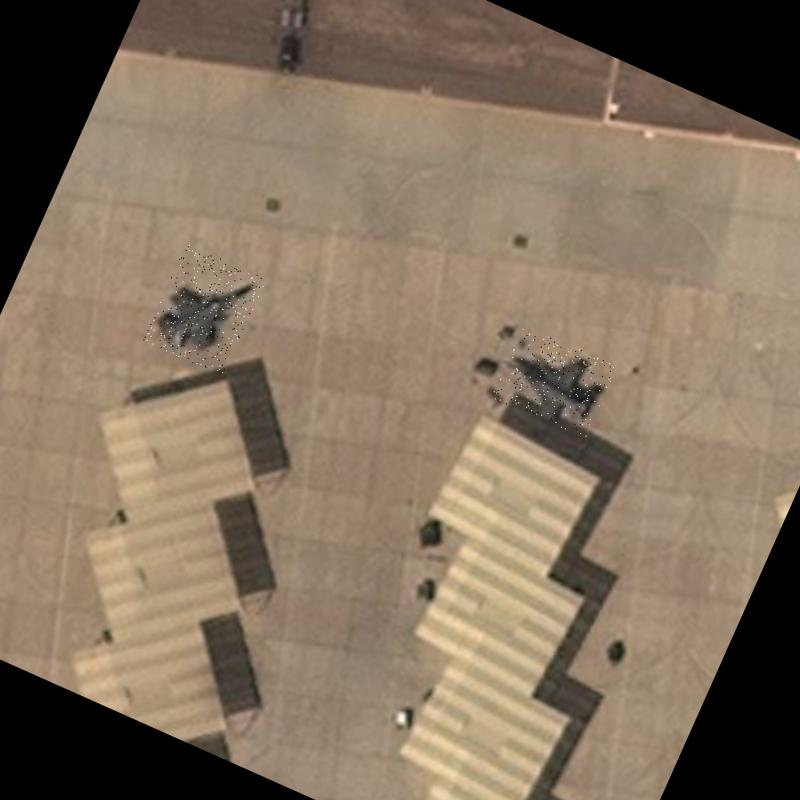A5: (142, 244, 266, 378), (490, 324, 618, 439)
